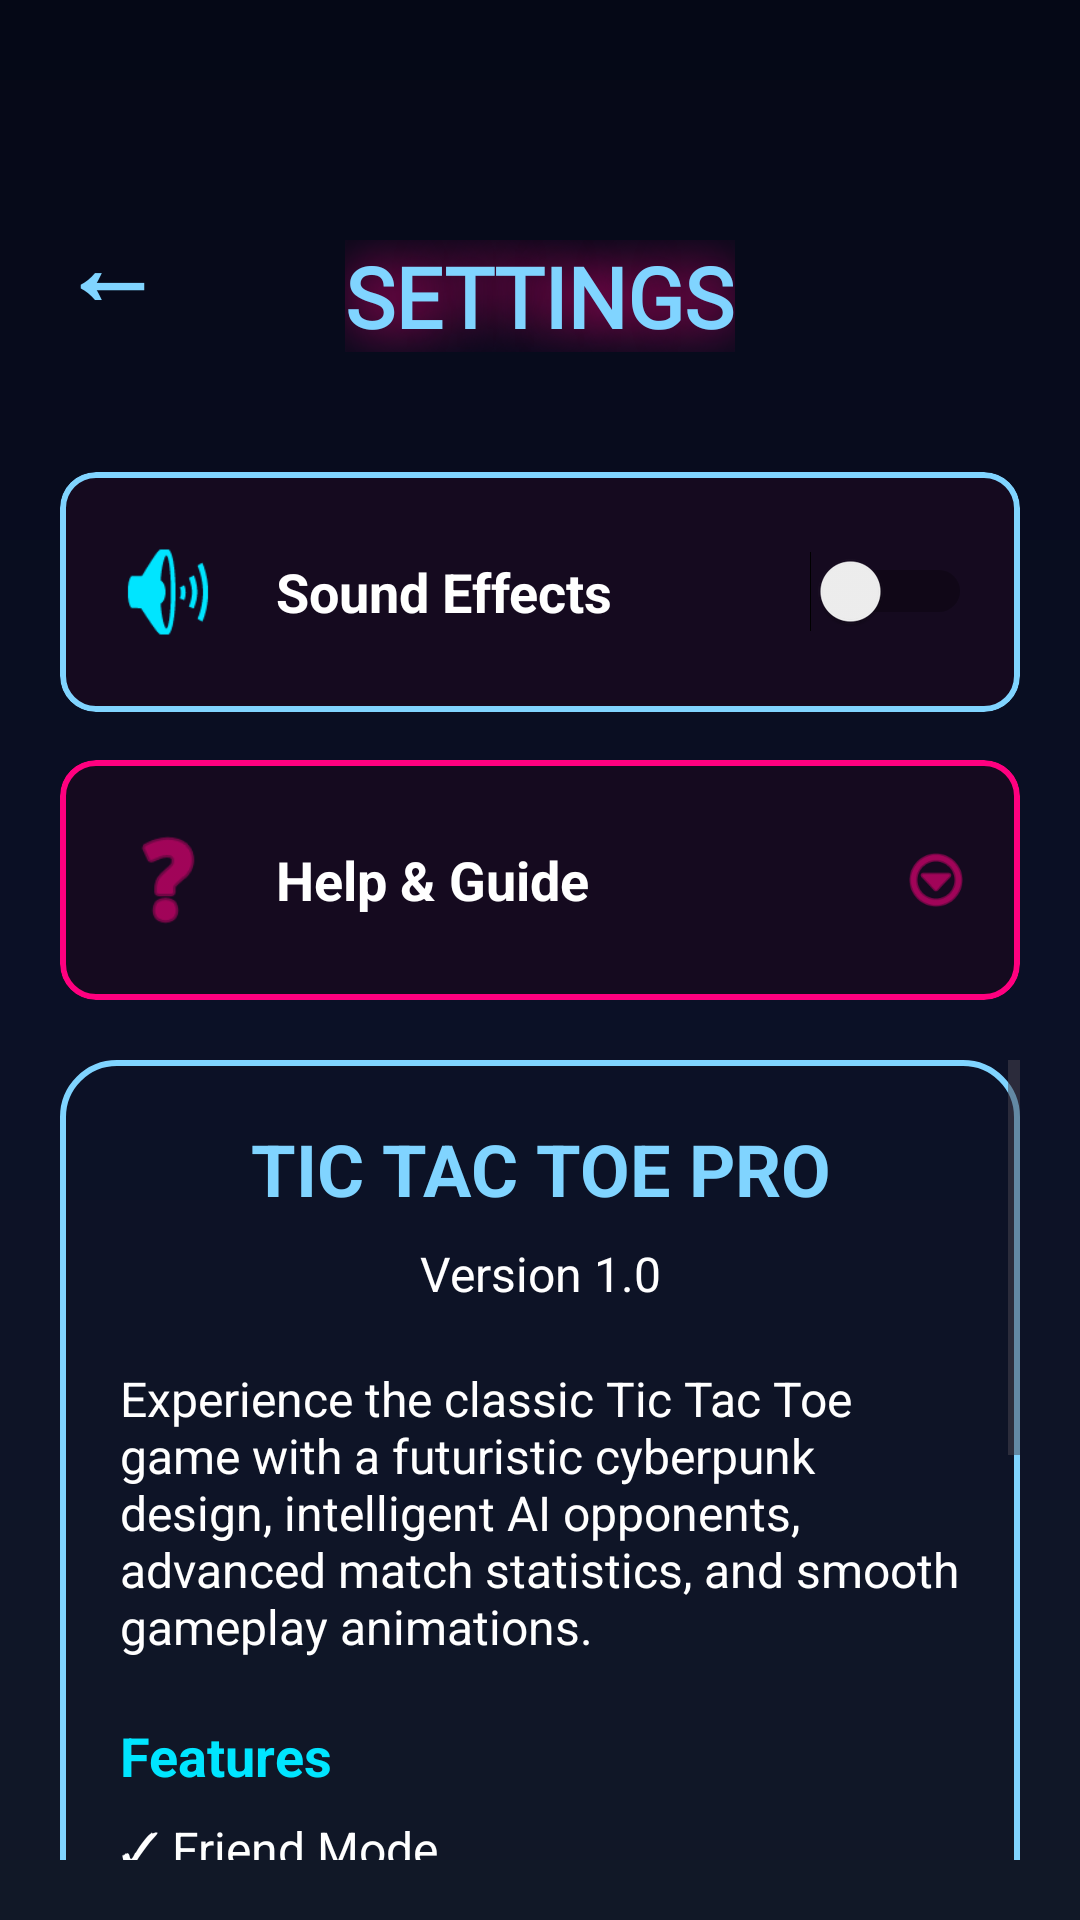

Where icons sit on this 1080×1920 app screen, as (x1, y1, x2, y2):
lock silent mode off: (128, 549, 208, 635)
more: (909, 853, 963, 907)
